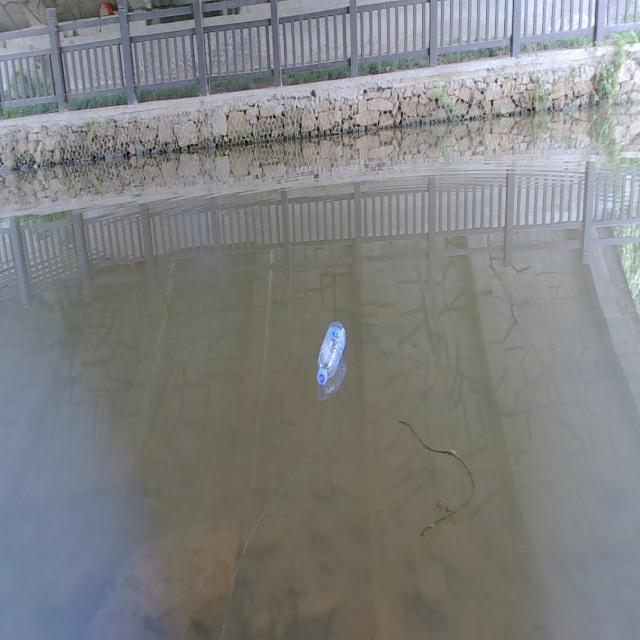bottle: (309, 298, 358, 412)
